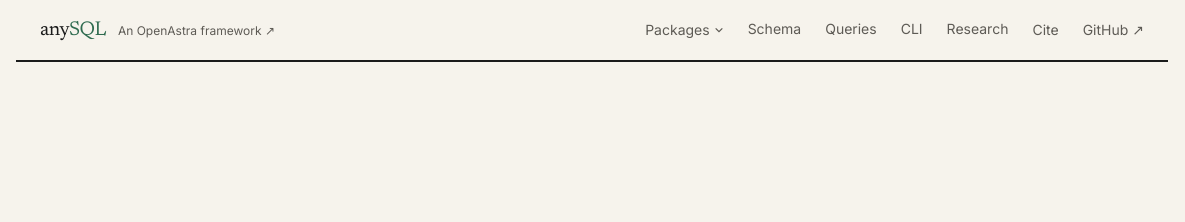
Navbar › closes the Packages menu on Escape
Click the button "Packages" at (684, 32), box x1=645 y1=20 x2=724 y2=43
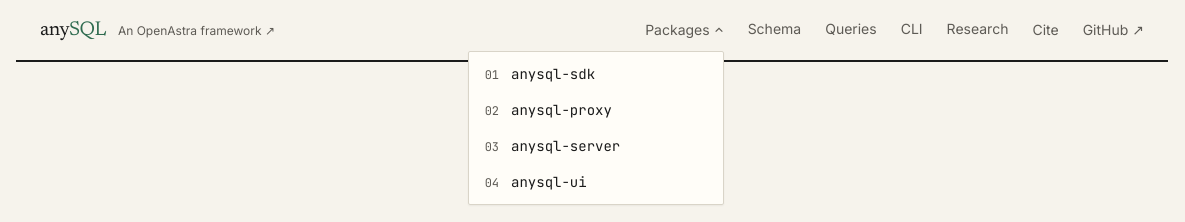
Press Escape in the button "Packages", box x1=645 y1=20 x2=724 y2=43
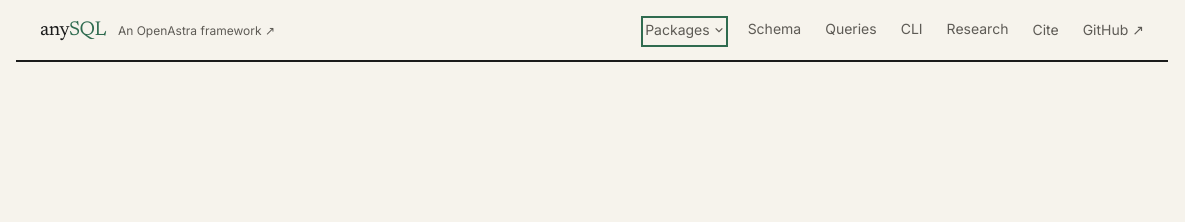
Expected: the button "Packages" is collapsed, x1=645 y1=20 x2=724 y2=43
